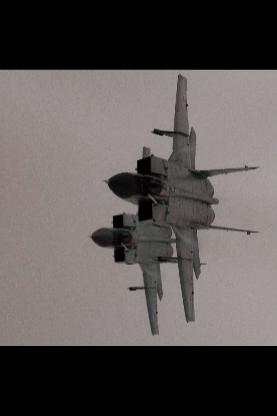Mig31: (101, 73, 261, 322), (86, 146, 208, 335)
